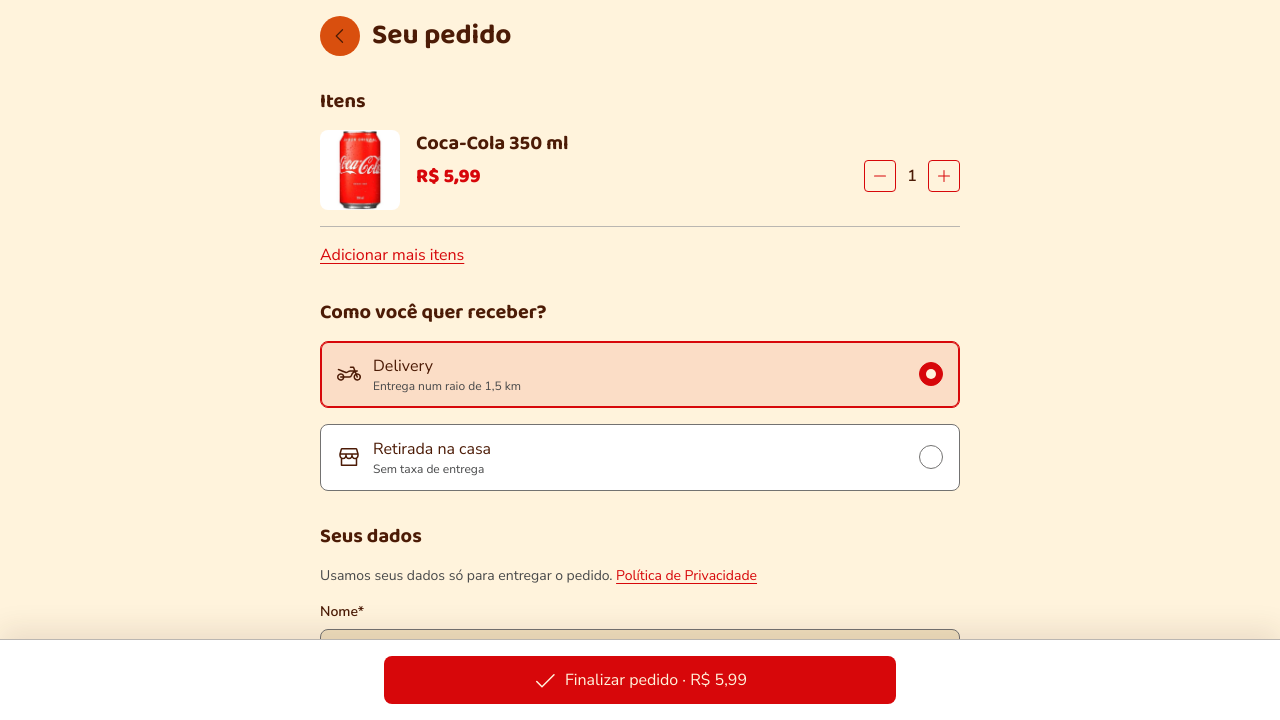
Test case: desfazer remoção no carrinho › remover o último item mostra o aviso e o botão Desfazer devolve o item
Click the button named "Remover Coca-Cola 350 ml do pedido" at (880, 176), box x1=864 y1=160 x2=896 y2=192
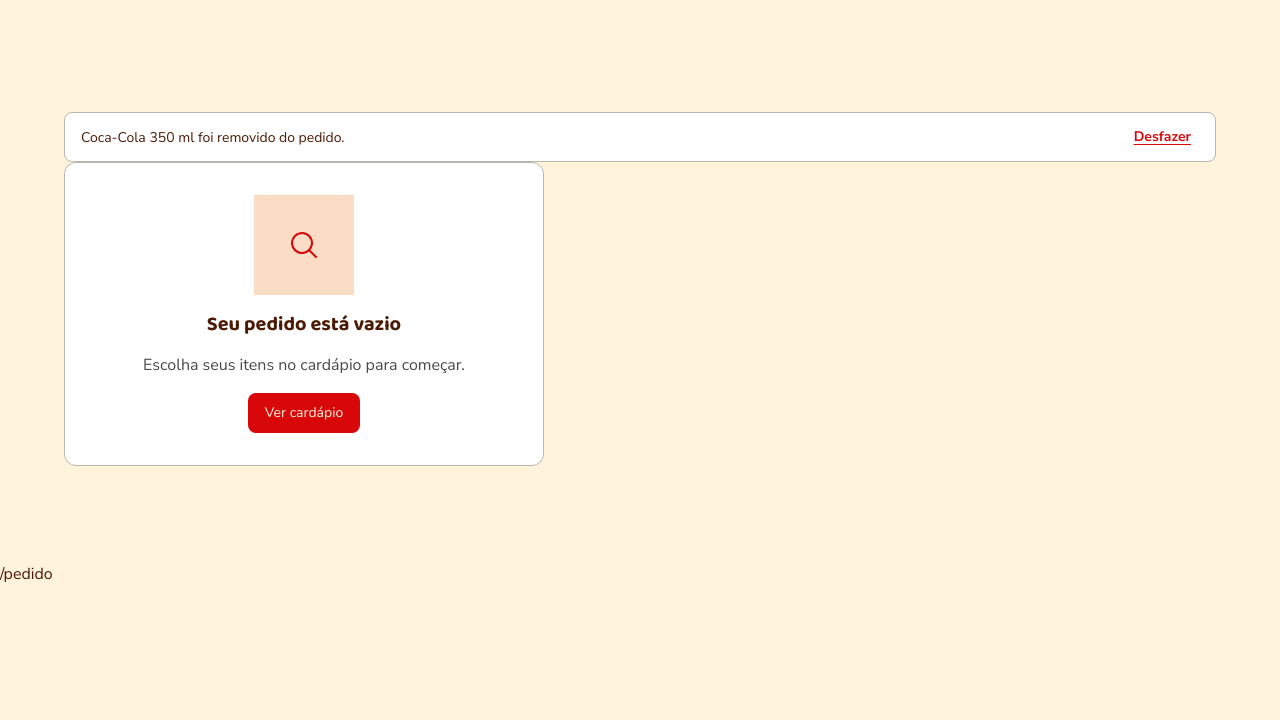
Expected: the heading "Seu pedido está vazio" is shown, x1=207 y1=311 x2=401 y2=337
Expected: the text "Coca-Cola 350 ml foi removido do pedido." is shown, x1=64 y1=112 x2=1216 y2=162
Click the button "Desfazer" at (1162, 137), box x1=1126 y1=121 x2=1199 y2=153
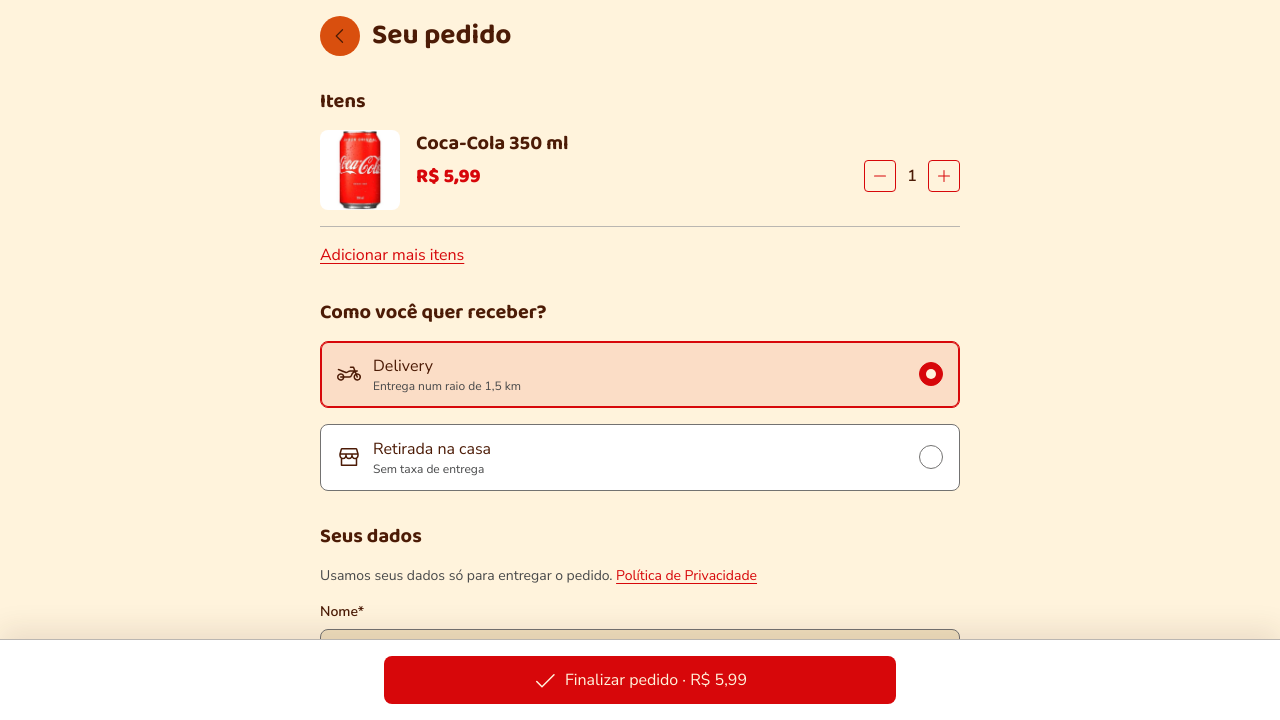
Expected: the heading "Coca-Cola 350 ml" is shown, x1=416 y1=127 x2=568 y2=159
Expected: the heading "Seu pedido está vazio" is gone
